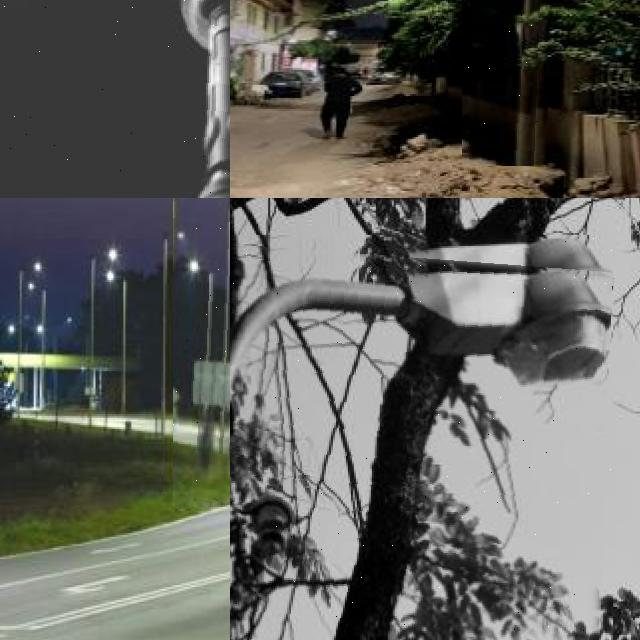street light: (230, 235, 613, 640), (0, 0, 230, 198), (173, 198, 230, 501), (462, 0, 547, 165), (88, 250, 118, 428), (18, 260, 42, 424), (197, 258, 221, 413), (105, 271, 126, 412)
